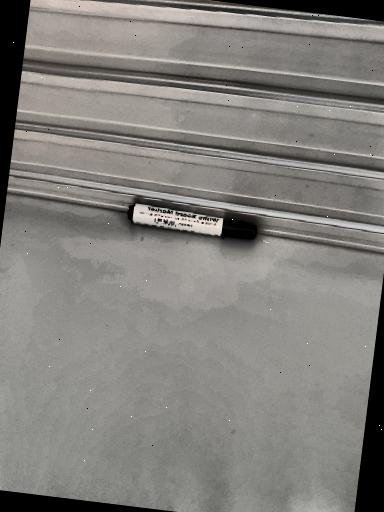marcador negro: (127, 204, 257, 240)
